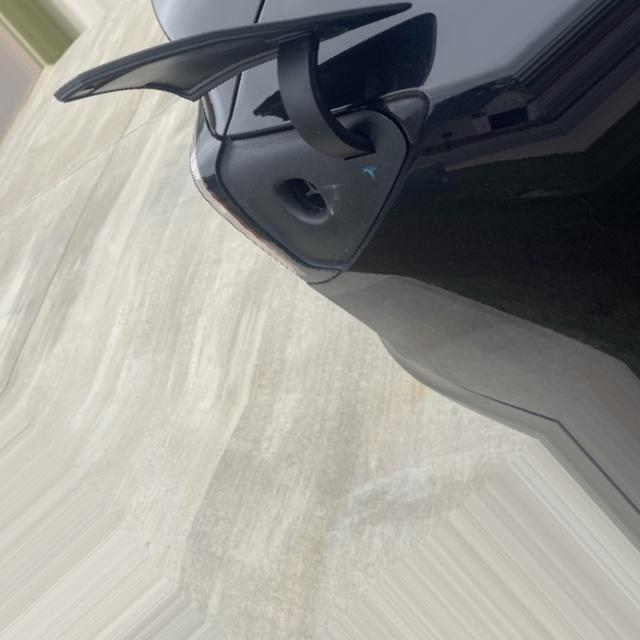Tesla Model-S-: (260, 166, 348, 246)
